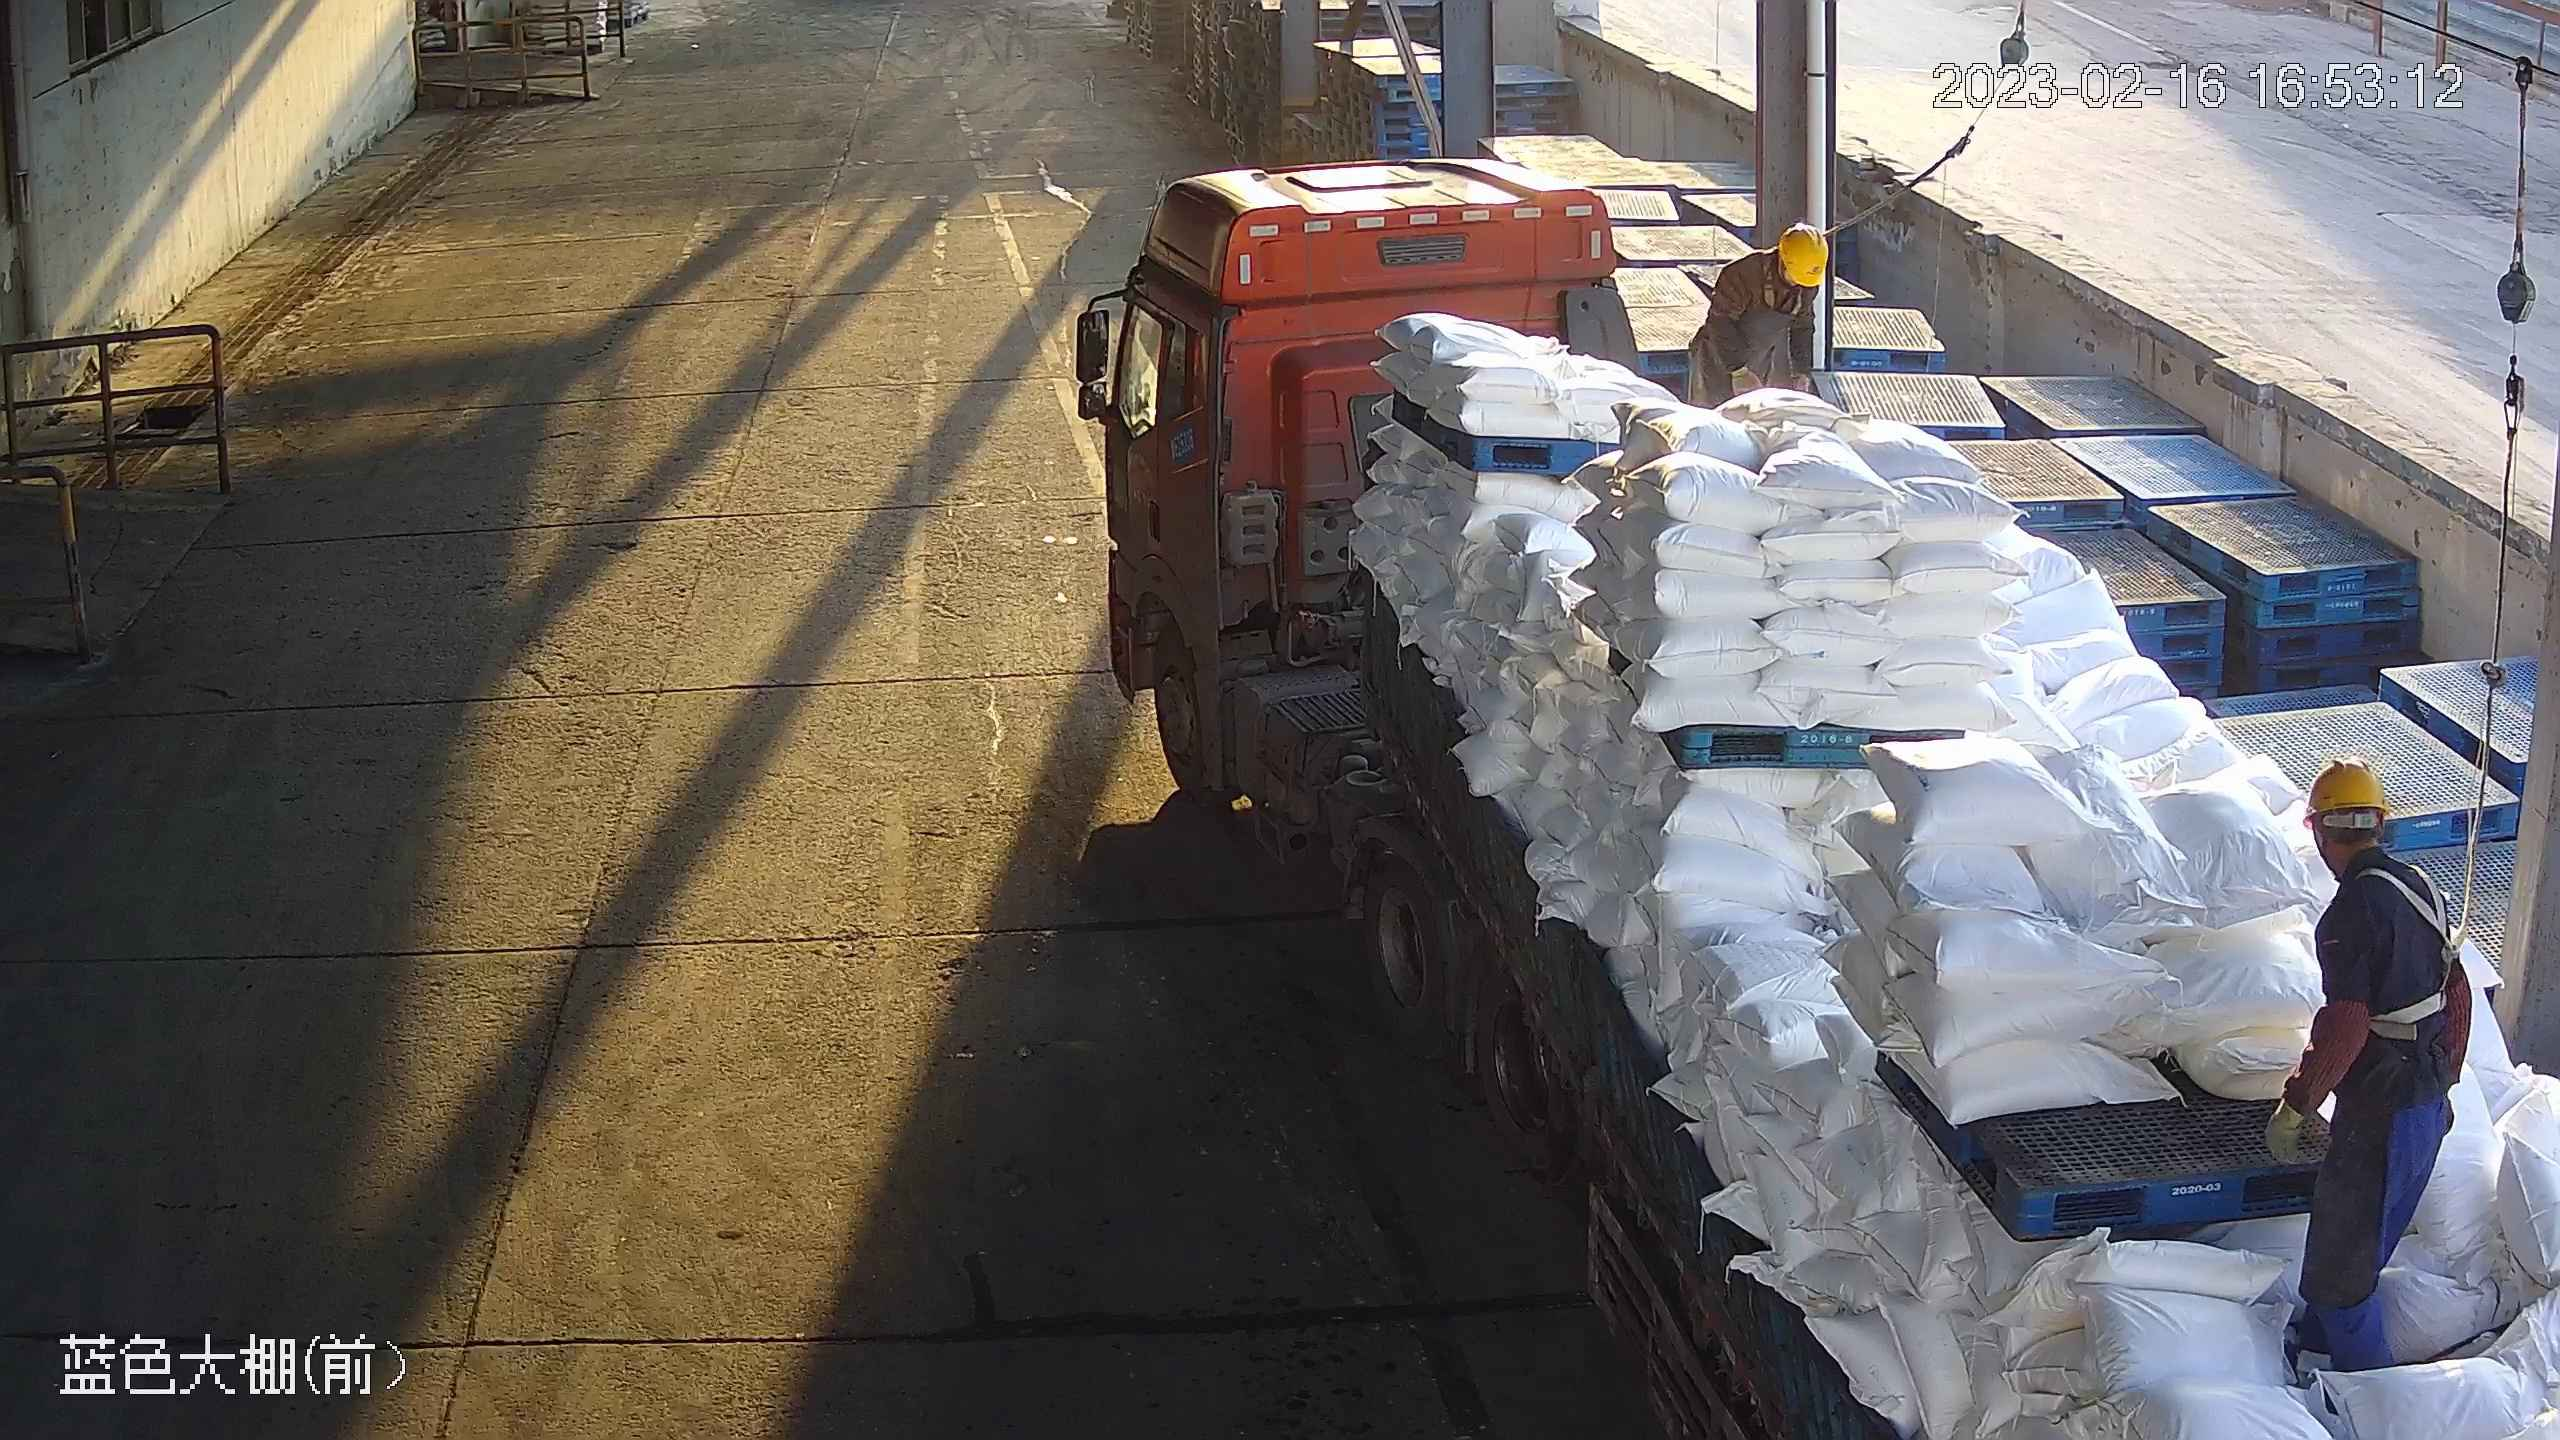belt: (2366, 870, 2483, 1034), (1757, 267, 1812, 312)
head: (2277, 777, 2475, 955), (1705, 220, 1827, 320)
helmet: (2301, 757, 2396, 838), (1766, 223, 1844, 294)
people: (2268, 766, 2503, 1353)
truck: (1066, 140, 2540, 1396)
